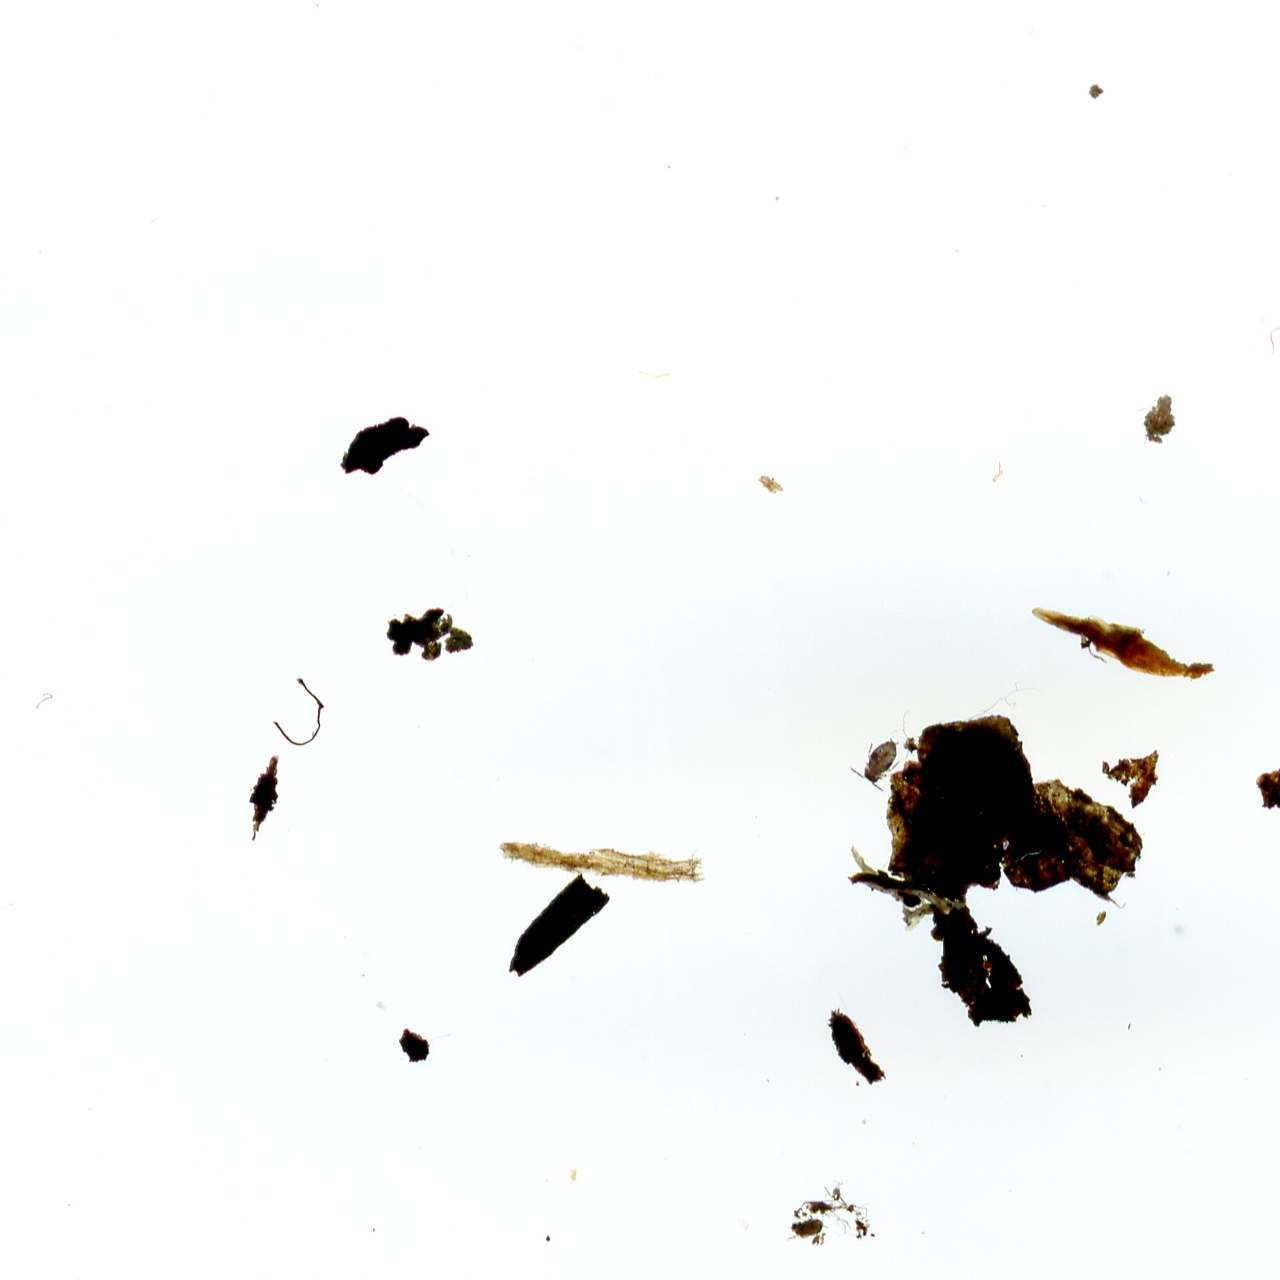arthropod: (844, 723, 914, 798)
